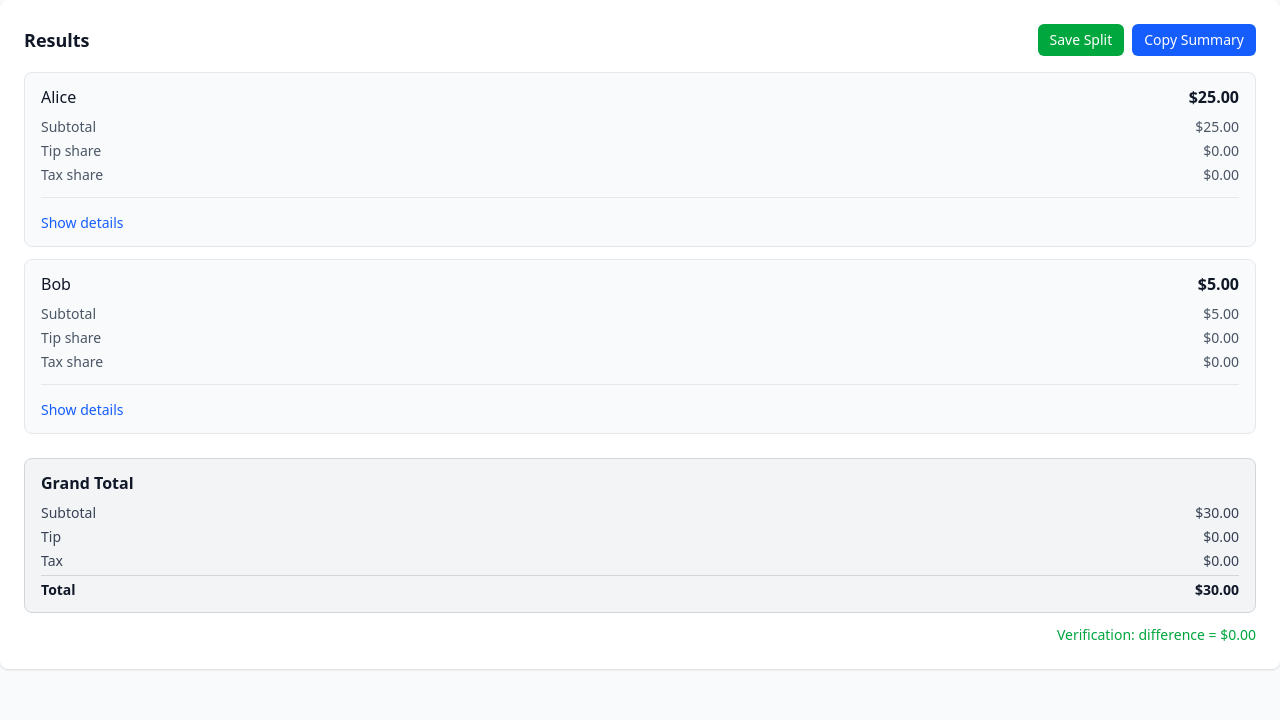
ResultsSection › copy to clipboard › copies formatted summary to clipboard when clicked
Click the button "Copy Summary" at (1194, 40), box [1132,24,1256,56]
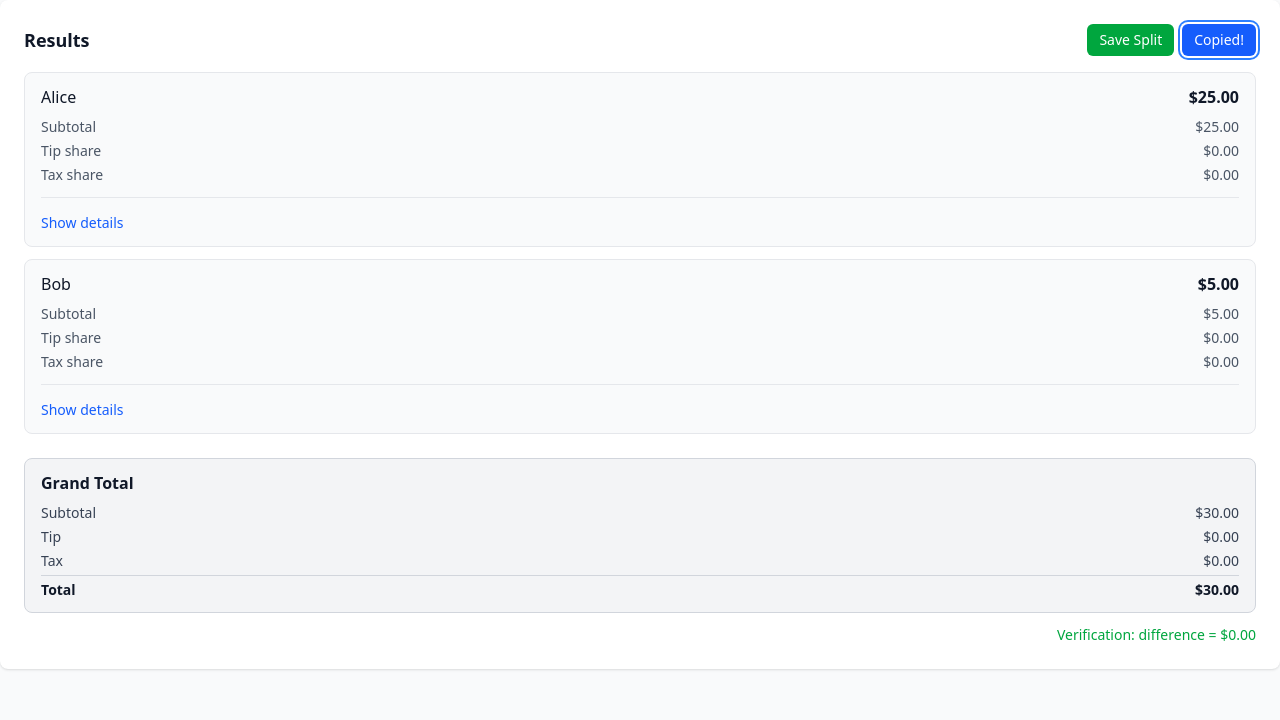
Expected: the button "Copied!" is shown, [1182,24,1256,56]
